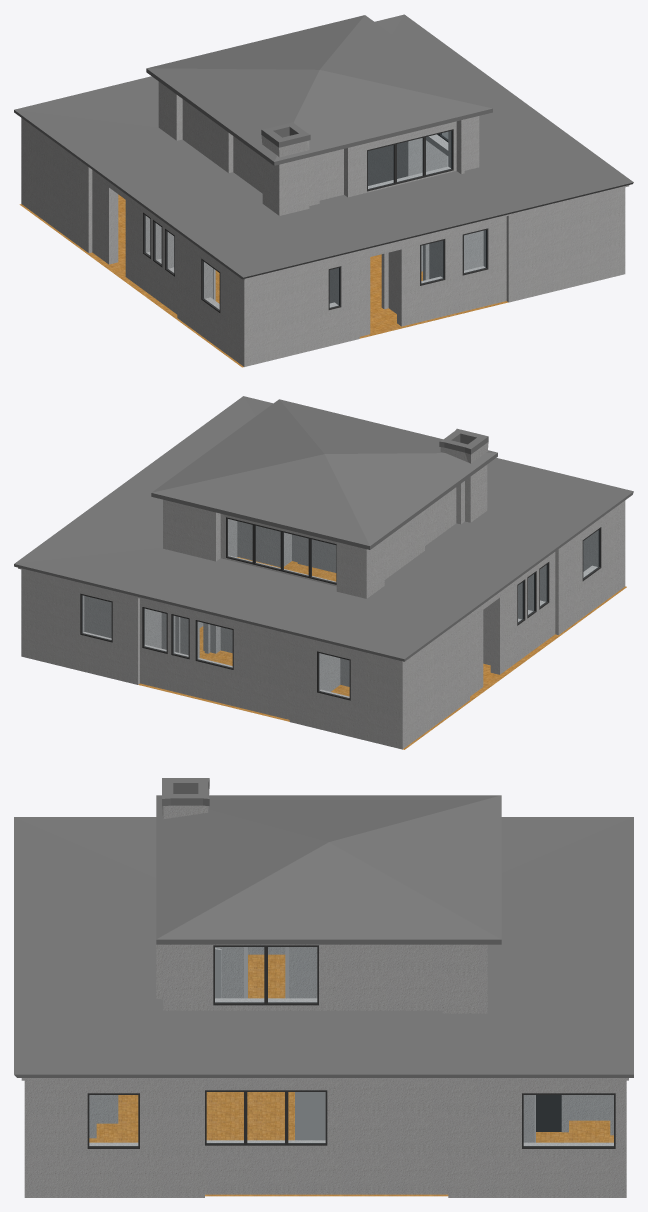
The model's file is teshyouse.fbx.
3 views of the same model, one above another, from view 1: azimuth 30°, elevation 25°; view 2: azimuth 150°, elevation 25°; view 3: azimuth 270°, elevation 25° (orthographic). The views are drawn at different scales.
Visible parts, largest first — view 1: building; view 2: building; view 3: building.
Part boxes in pixels (x1,y1,x2,y2): building: (14,14,633,367); building: (14,396,633,749); building: (14,778,633,1197).
Bounding box in the file's own units: 676 × 297 × 688.
Materials: 6 (2 with a texture image).
